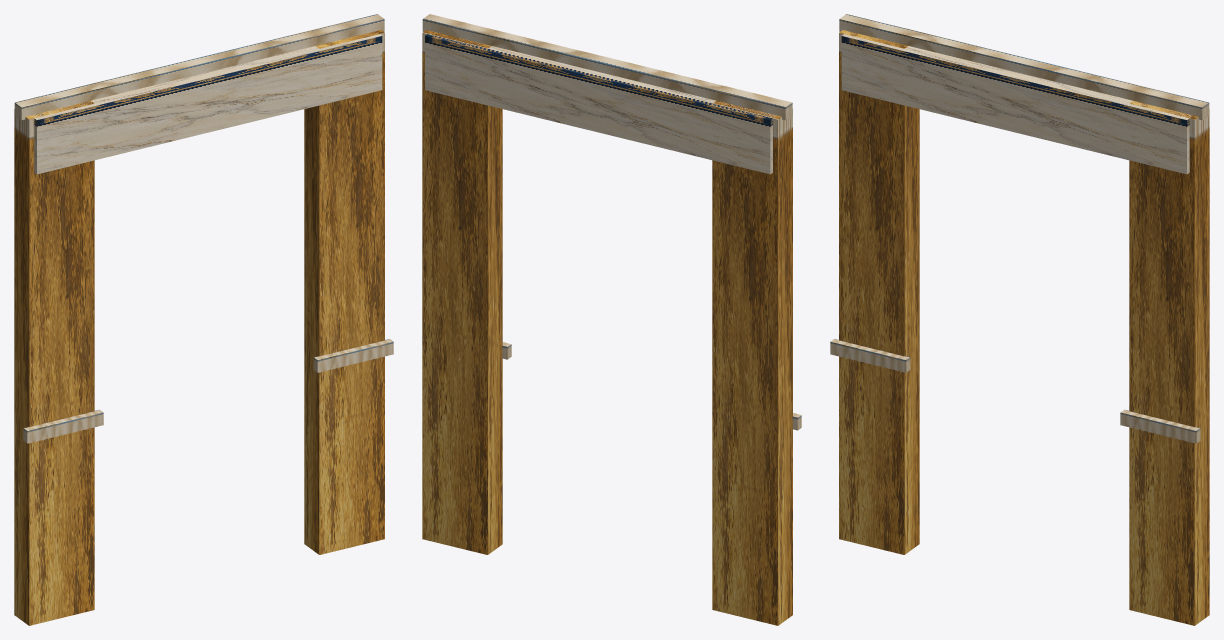
Rendered from drapery-bay.gltf.
The picture shows the model from 3 angles, left to right: view 1: azimuth 30°, elevation 25°; view 2: azimuth 150°, elevation 25°; view 3: azimuth 330°, elevation 25°; orthographic projection.
Parts seen in each view (by area): view 1: kit:0:furniture:drapery:, kit:0:furniture:blue:, kit:0:furniture:gold:; view 2: kit:0:furniture:drapery:, kit:0:furniture:blue:, kit:0:furniture:gold:; view 3: kit:0:furniture:drapery:, kit:0:furniture:blue:, kit:0:furniture:gold:.
Boxes of the visible parts, bbox=[...] form: kit:0:furniture:drapery:: bbox=[14, 30, 384, 625]; kit:0:furniture:blue:: bbox=[31, 33, 382, 174]; kit:0:furniture:gold:: bbox=[14, 14, 393, 443]; kit:0:furniture:drapery:: bbox=[422, 30, 792, 625]; kit:0:furniture:blue:: bbox=[425, 33, 776, 174]; kit:0:furniture:gold:: bbox=[422, 14, 801, 430]; kit:0:furniture:drapery:: bbox=[839, 30, 1209, 625]; kit:0:furniture:blue:: bbox=[841, 31, 1191, 174]; kit:0:furniture:gold:: bbox=[830, 14, 1209, 443].
Bounding box in the file's own units: 2.12 × 2.86 × 0.21.
Materials: 3 (3 with a texture image).
